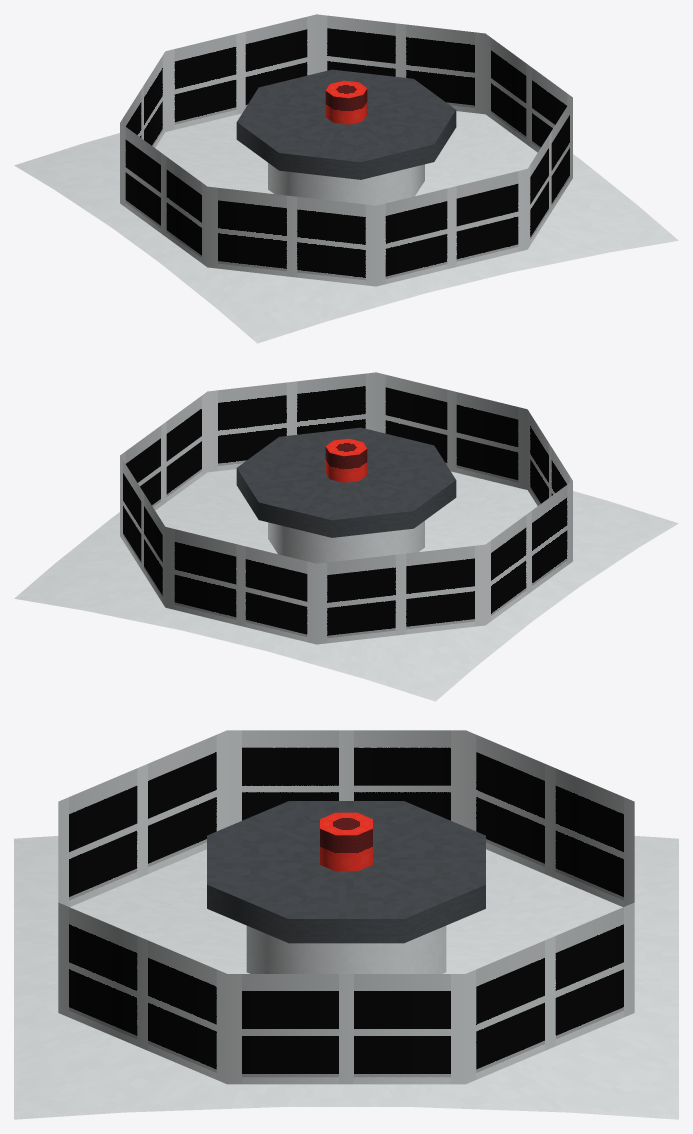
The model's file is spheroid_medium_2_2_2.obj.
3 views of the same model, one above another, from view 1: azimuth 30°, elevation 25°; view 2: azimuth 150°, elevation 25°; view 3: azimuth 270°, elevation 25° (orthographic). The views are drawn at different scales.
Parts seen in each view (by area): view 1: spheroid_medium_2_2_2; view 2: spheroid_medium_2_2_2; view 3: spheroid_medium_2_2_2.
Part boxes in pixels (left/top/right/bottom): spheroid_medium_2_2_2: left=14, top=14, right=678, bottom=343; spheroid_medium_2_2_2: left=14, top=372, right=678, bottom=701; spheroid_medium_2_2_2: left=14, top=730, right=678, bottom=1119.
Bounding box in the file's own units: 3 × 0.7727 × 3.
